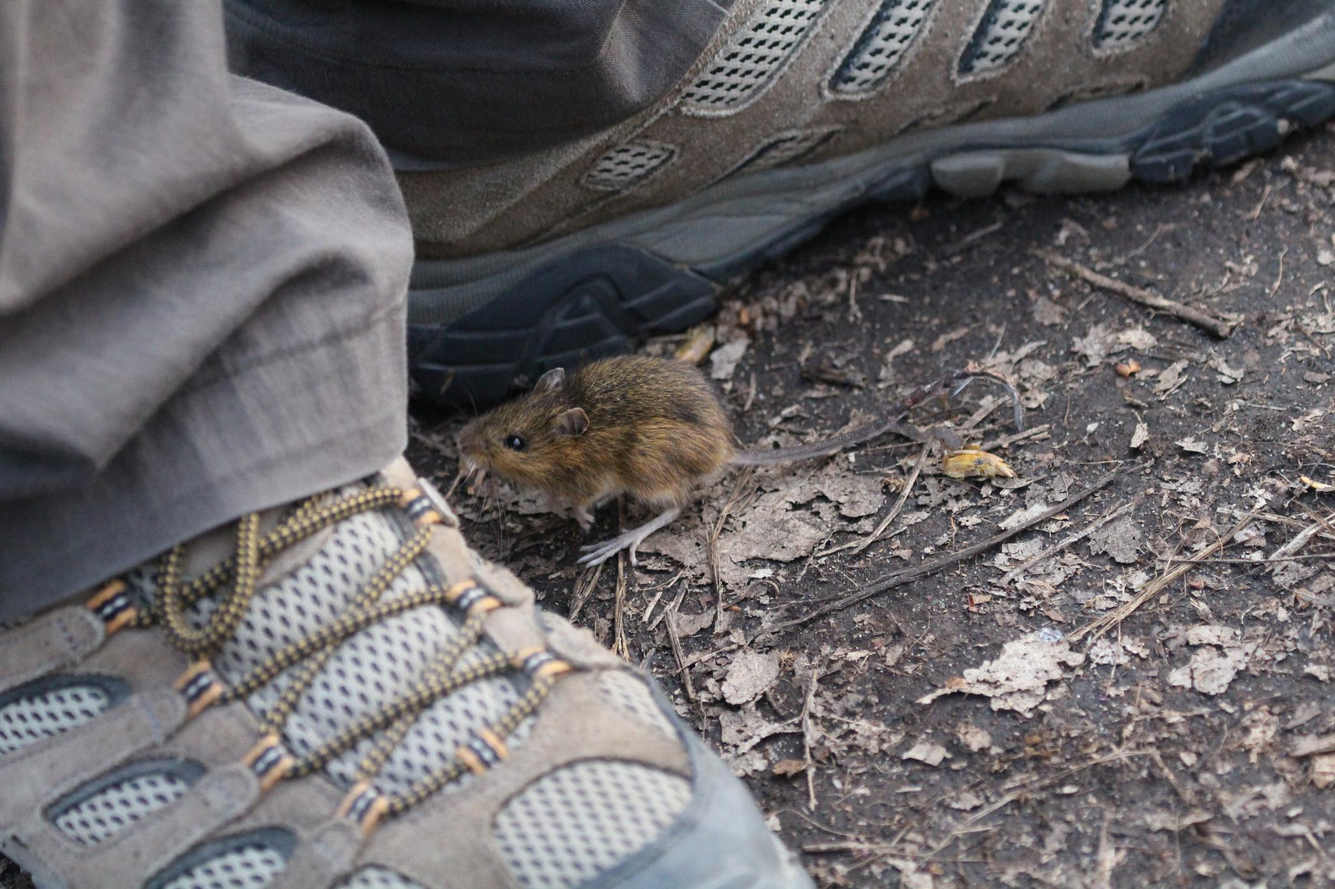rat: (456, 353, 1023, 568)
